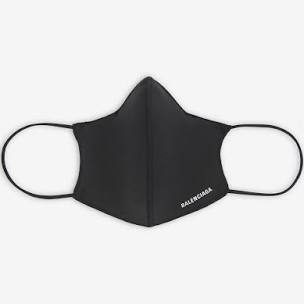FaceMask: (73, 76, 231, 228)
